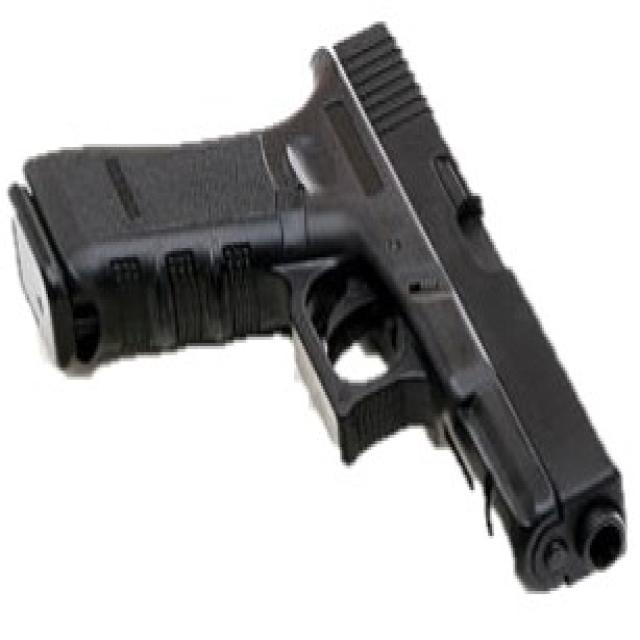pistol: (1, 9, 631, 599)
